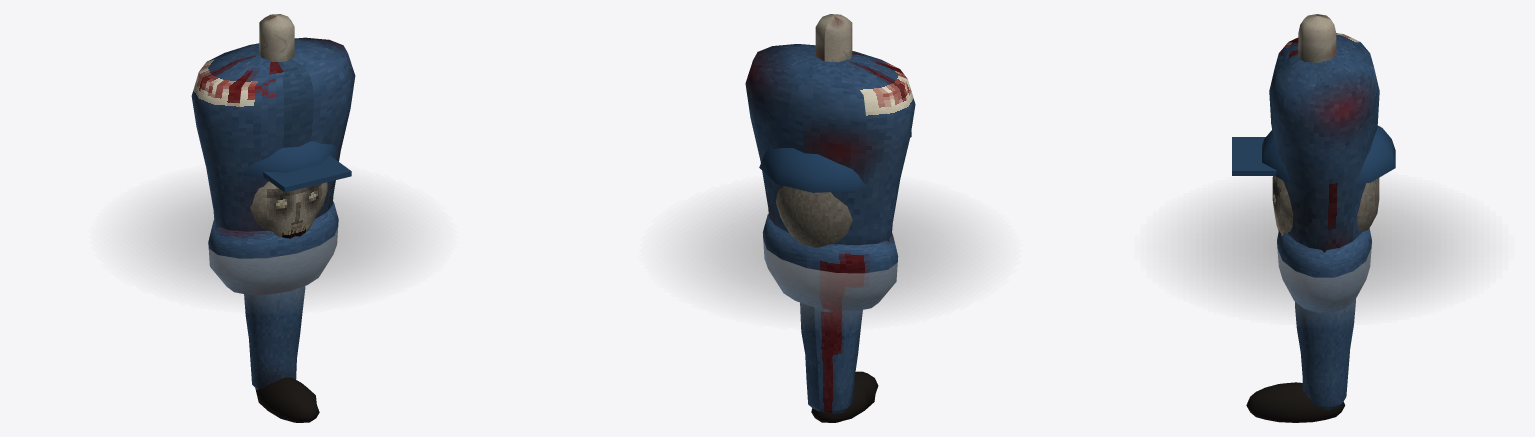
3 renders of one model, left to right at view 1: azimuth 30°, elevation 25°; view 2: azimuth 150°, elevation 25°; view 3: azimuth 270°, elevation 25°, orthographic. The views are drawn at different scales.
Visible parts, largest first — view 1: root__x__11, spine__x__1, core__x__0, legL1__x__12, head__h__4, head__h__3, legL2__x__14, spine__x__2; view 2: root__x__11, spine__x__1, core__x__0, legL1__x__12, head__h__3, head__h__4, spine__x__2, legL2__x__14; view 3: root__x__11, spine__x__1, core__x__0, legL1__x__12, head__h__4, legL2__x__14, head__h__3, spine__x__2.
Boxes of the visible parts, x1,y1,x2,y2 form: root__x__11: (114,176,432,303); spine__x__1: (191,37,355,231); core__x__0: (208,201,338,294); legL1__x__12: (244,286,305,390); head__h__4: (242,141,351,192); head__h__3: (250,181,327,238); legL2__x__14: (255,377,319,422); spine__x__2: (259,14,294,61); root__x__11: (665,187,995,320); spine__x__1: (745,44,915,245); core__x__0: (762,214,898,310); legL1__x__12: (800,302,862,413); head__h__3: (776,186,852,247); head__h__4: (759,131,911,192); spine__x__2: (815,14,852,62); legL2__x__14: (811,371,878,422); root__x__11: (1159,182,1489,316); spine__x__1: (1269,33,1379,252); core__x__0: (1277,228,1371,312); legL1__x__12: (1295,299,1355,410); head__h__4: (1232,125,1395,184); legL2__x__14: (1246,382,1345,422); head__h__3: (1272,176,1379,235); spine__x__2: (1298,14,1336,62).
Bounding box in the file's own units: 1.07 × 1.21 × 1.07.
Materials: 7 (5 with a texture image).
